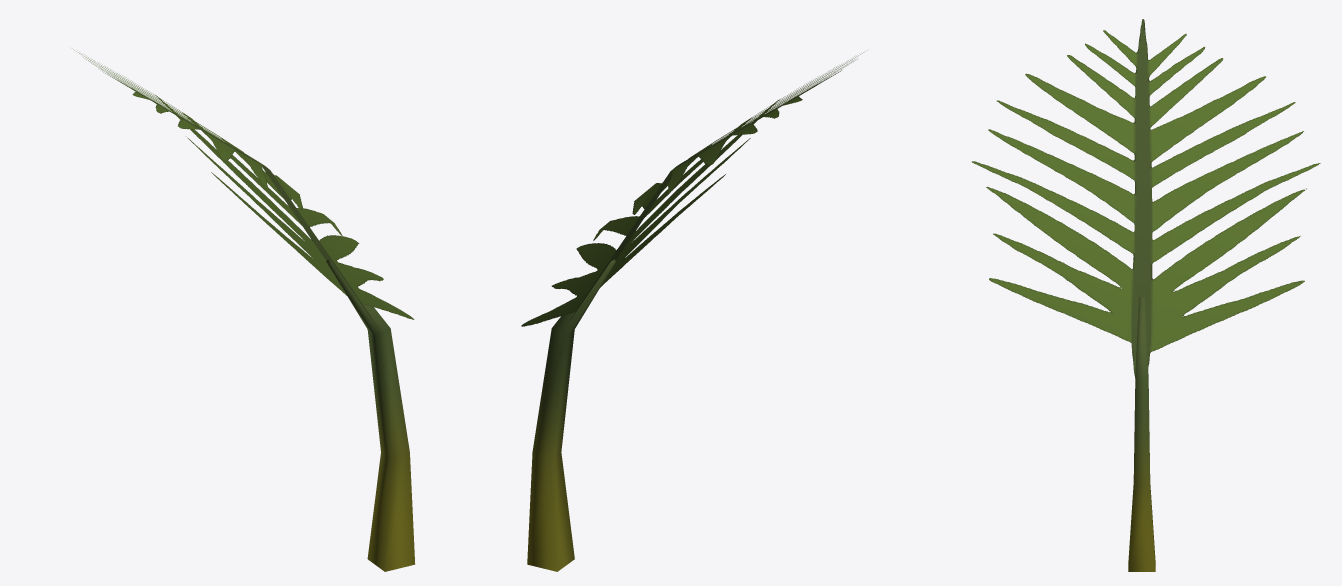
The model's file is Planta_1.fbx.
The picture shows the model from 3 angles, left to right: view 1: azimuth 30°, elevation 25°; view 2: azimuth 150°, elevation 25°; view 3: azimuth 270°, elevation 25°; orthographic projection. The views are drawn at different scales.
Visible parts, largest first — view 1: Planta_1; view 2: Planta_1; view 3: Planta_1.
Boxes of the visible parts, x1=… form: Planta_1: x1=73, y1=49, x2=415, y2=571; Planta_1: x1=521, y1=52, x2=863, y2=571; Planta_1: x1=972, y1=19, x2=1320, y2=571.
Size of the model in its own units: 69.59 by 121 by 92.56.
